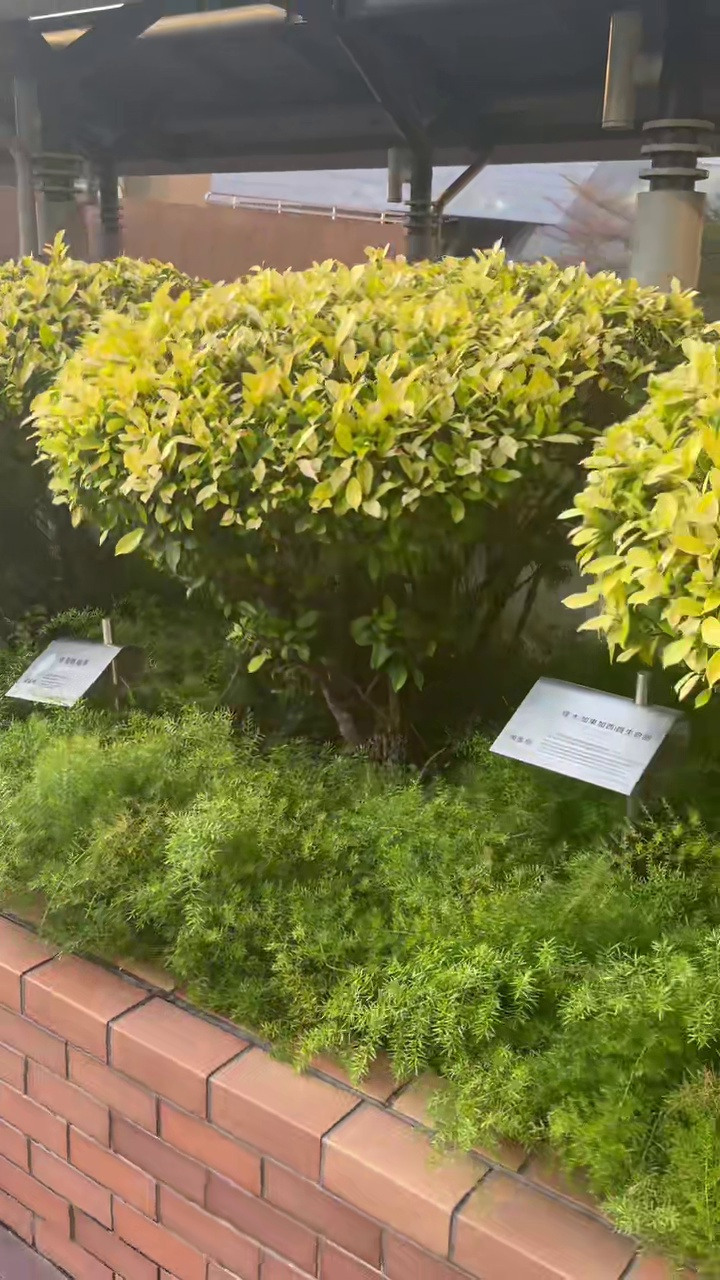Golden-leaves Fig: (31, 248, 704, 756)
